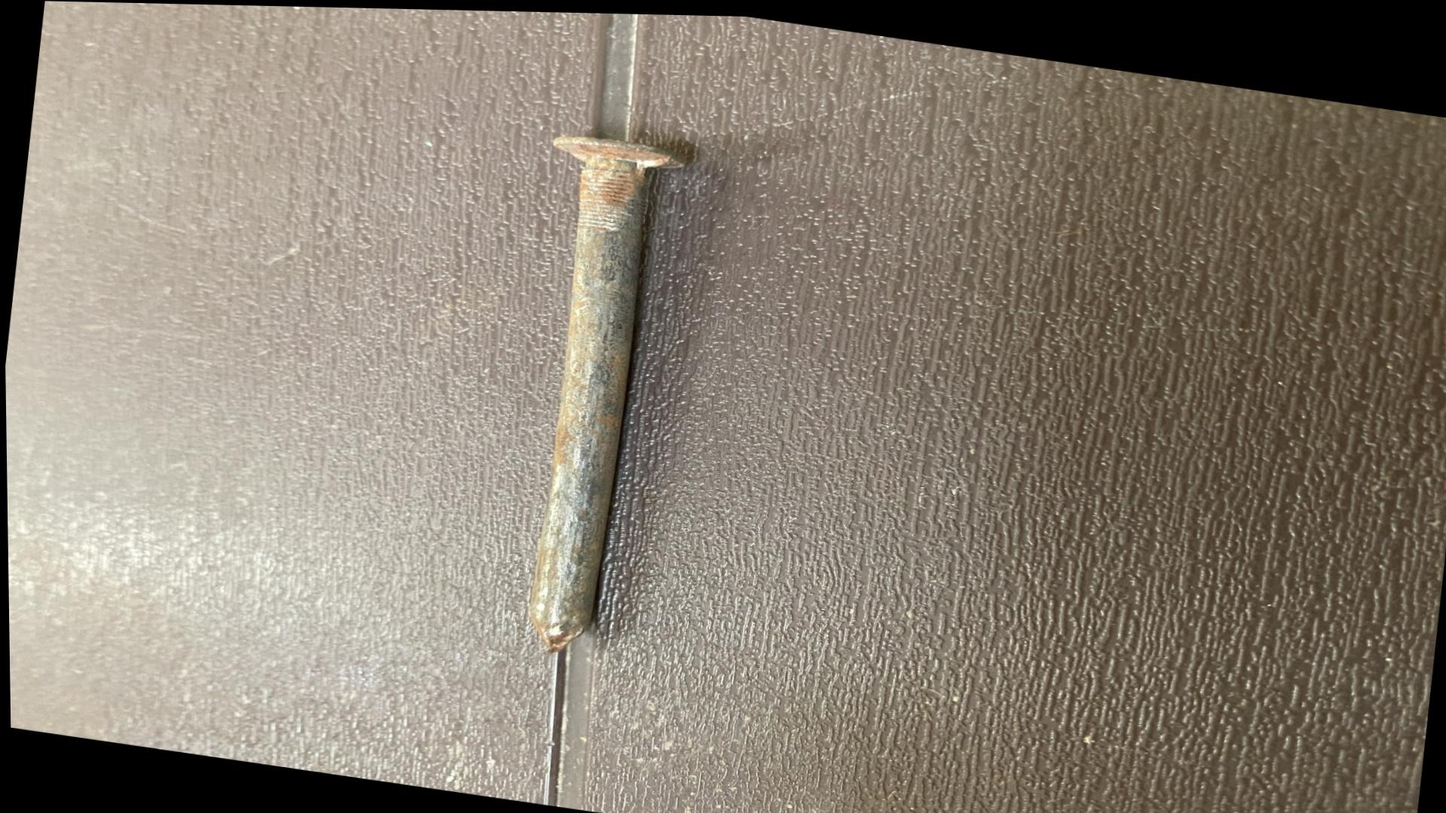nail: (389, 80, 744, 679)
